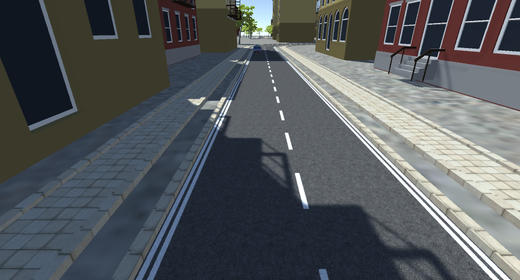centerstrip: (282, 156, 330, 280), (265, 62, 289, 159)
sidestripe: (133, 55, 250, 278), (350, 126, 501, 278), (294, 66, 350, 127)
